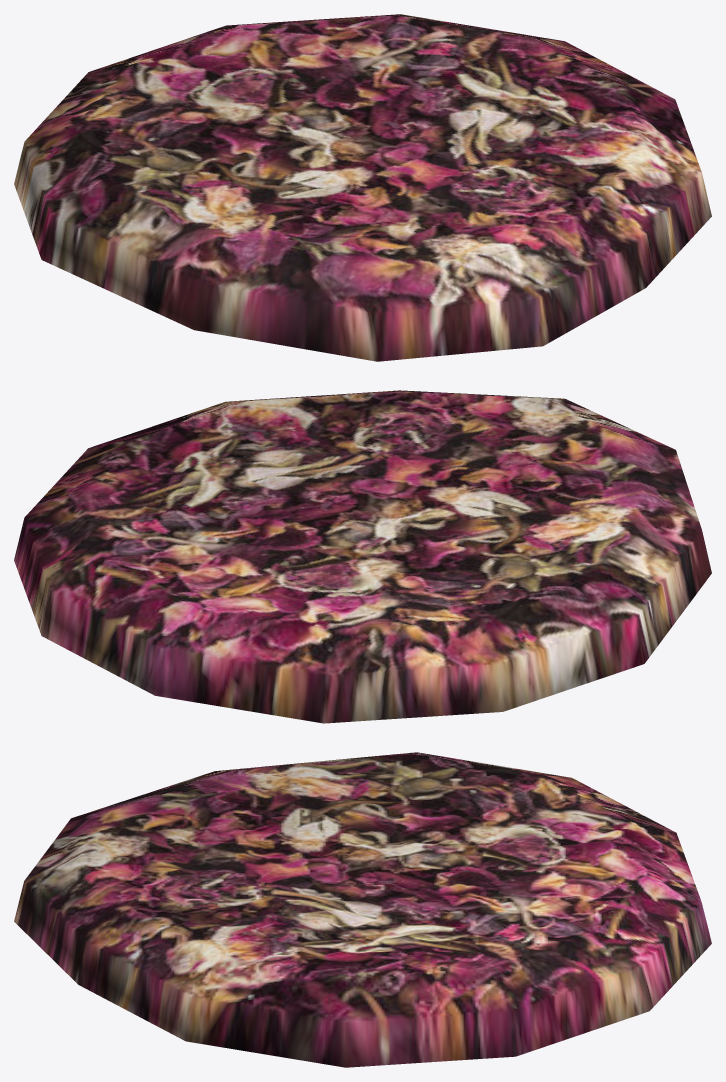
Rendered from Cake_Rose.fbx.
3 renders of one model, top to bottom at view 1: azimuth 30°, elevation 25°; view 2: azimuth 150°, elevation 25°; view 3: azimuth 270°, elevation 25°, orthographic. The views are drawn at different scales.
Visible parts, largest first — view 1: Group1; view 2: Group1; view 3: Group1.
Boxes of the visible parts, <box> form: Group1: <box>14,14,711,361</box>; Group1: <box>14,390,711,723</box>; Group1: <box>14,752,711,1067</box>.
Bounding box in the file's own units: 0.1337 × 0.0138 × 0.1414.
